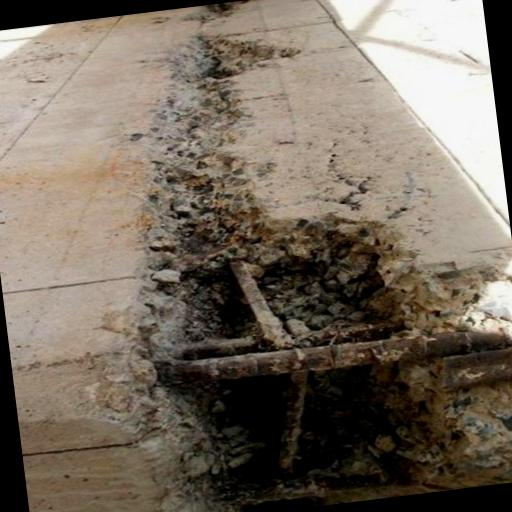spalling: (119, 48, 512, 512)
